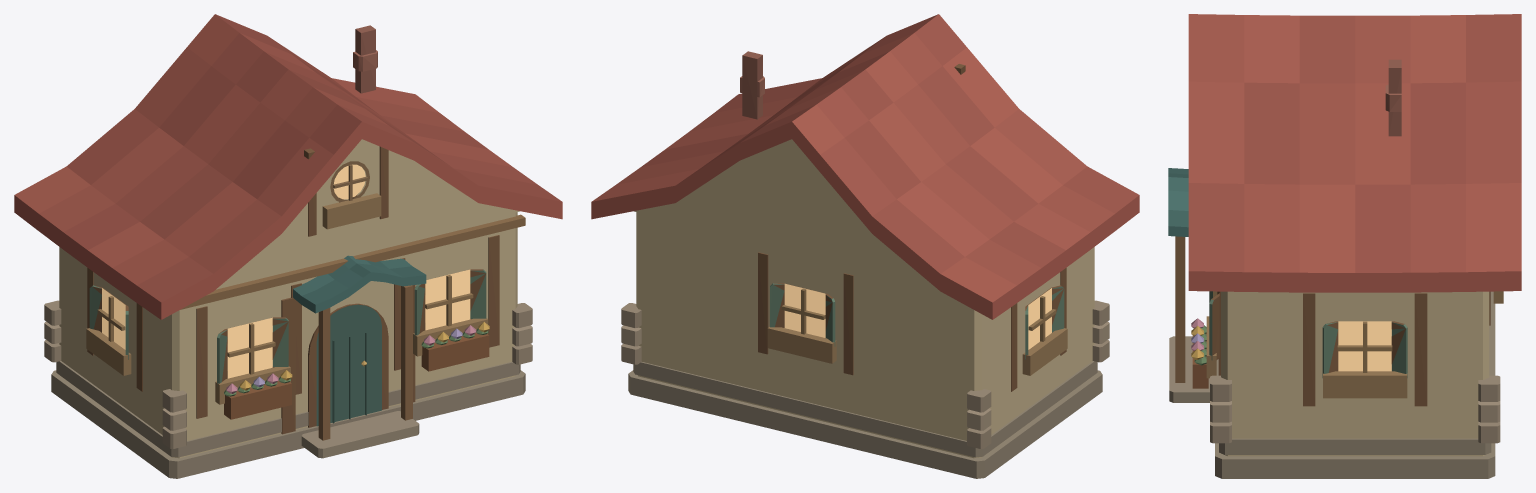
Rendered from apple-gable-cottage.glb.
The picture shows the model from 3 angles, left to right: view 1: azimuth 30°, elevation 25°; view 2: azimuth 150°, elevation 25°; view 3: azimuth 270°, elevation 25°; orthographic projection. The views are drawn at different scales.
Parts seen in each view (by area): view 1: apfelgiebel; view 2: apfelgiebel; view 3: apfelgiebel.
Part boxes in pixels (x1,y1,x2,y2): apfelgiebel: [14, 14, 562, 478]; apfelgiebel: [591, 14, 1139, 478]; apfelgiebel: [1168, 14, 1521, 478].
Bounding box in the file's own units: 5.28 × 4.1 × 3.55.
